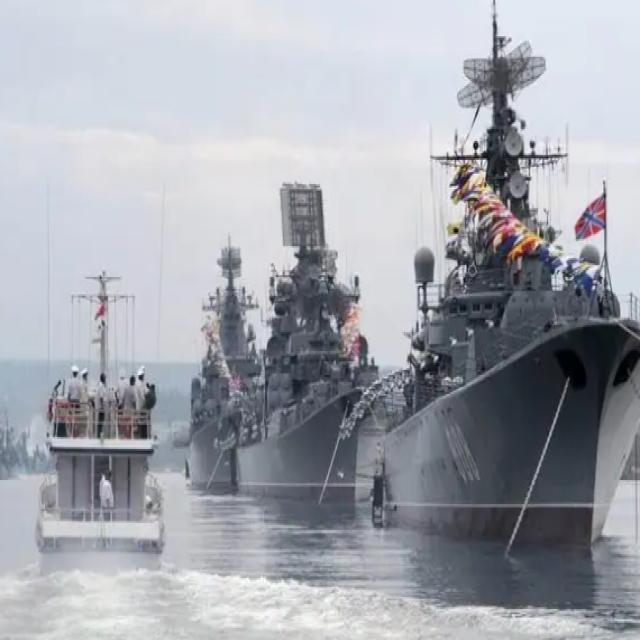houseboat: (27, 253, 161, 555)
navalvessels: (372, 17, 640, 550), (232, 172, 406, 511), (181, 236, 269, 493)
